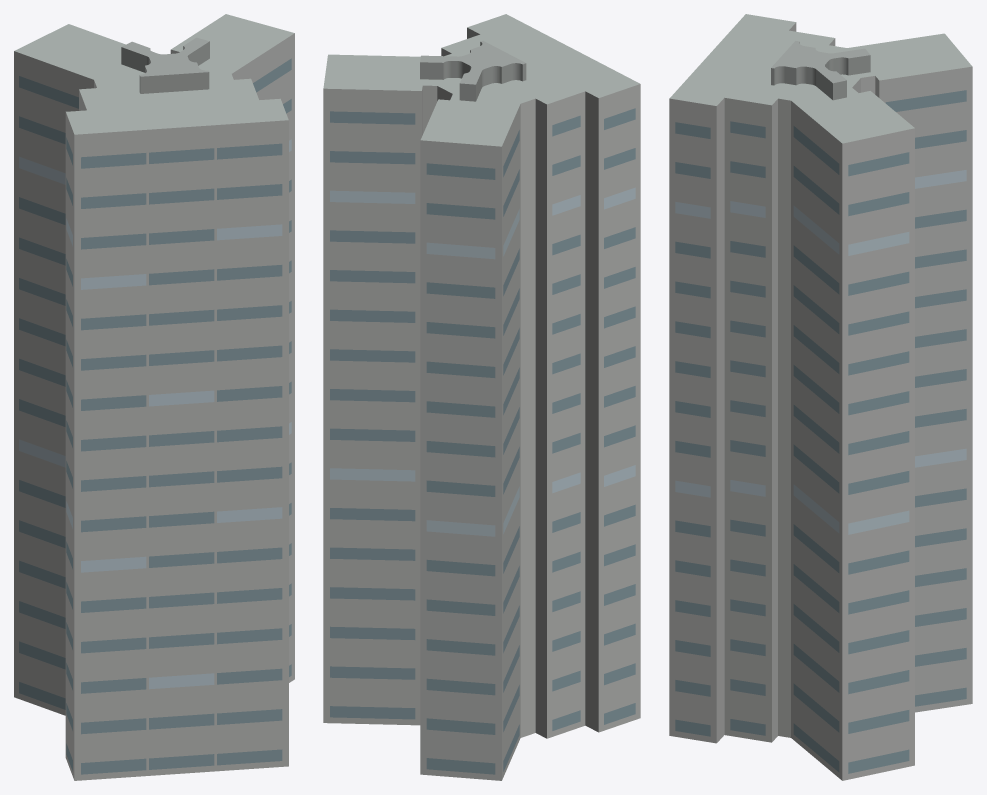
The model's file is fallback-banpo-riche-101.glb.
3 renders of one model, left to right at view 1: azimuth 30°, elevation 25°; view 2: azimuth 150°, elevation 25°; view 3: azimuth 270°, elevation 25°, orthographic.
Parts seen in each view (by area): view 1: fallback-banpo-riche-101; view 2: fallback-banpo-riche-101; view 3: fallback-banpo-riche-101.
Boxes of the visible parts, bbox=[...] form: fallback-banpo-riche-101: bbox=[14, 14, 294, 780]; fallback-banpo-riche-101: bbox=[323, 14, 640, 780]; fallback-banpo-riche-101: bbox=[669, 14, 972, 780].
Bounding box in the file's own units: 39.1 × 92 × 38.62.
